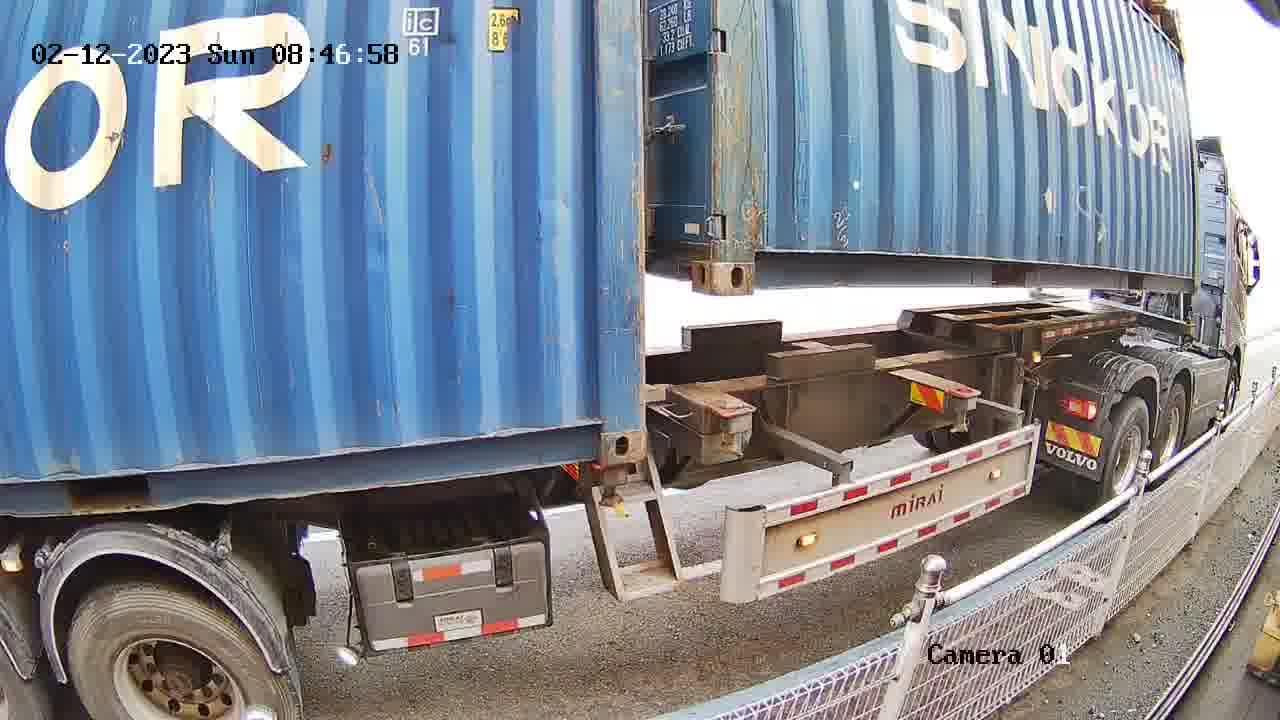Cone: (711, 401, 753, 457), (594, 467, 630, 507)
Hole_L: (712, 219, 790, 294)
Hole_R: (557, 392, 645, 467), (667, 223, 713, 297)
Tire: (70, 592, 287, 717), (1102, 401, 1149, 514), (1152, 384, 1186, 485)
